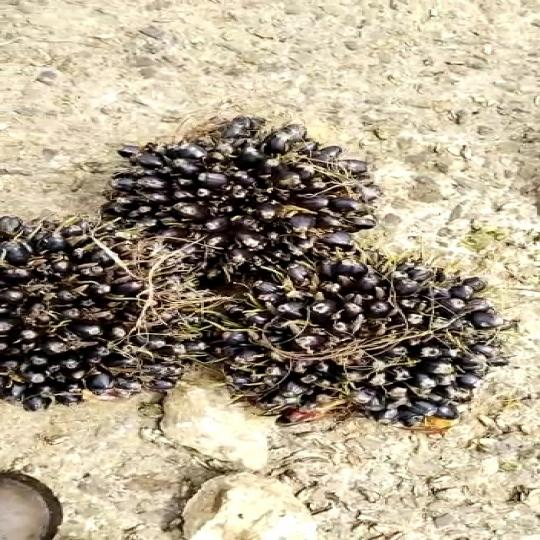mentah: (204, 243, 507, 446), (0, 182, 243, 420), (82, 114, 383, 280)
